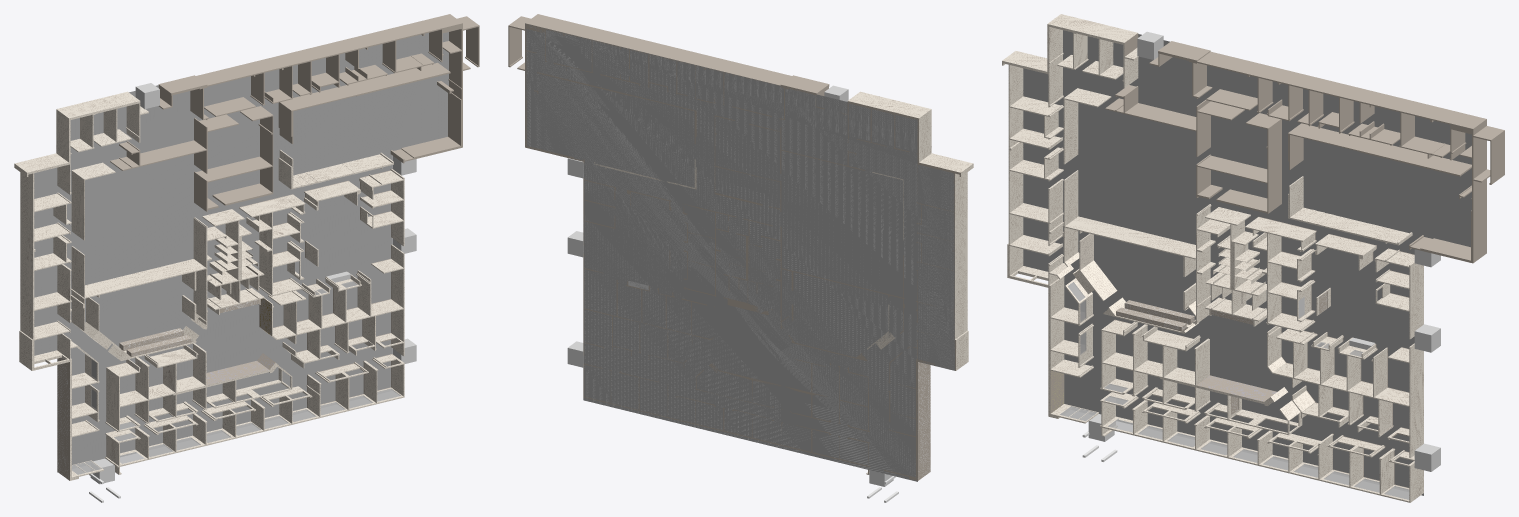
The model's file is willowgarage_hd_closed.glb.
3 views of the same model, side by side, from view 1: azimuth 30°, elevation 25°; view 2: azimuth 150°, elevation 25°; view 3: azimuth 330°, elevation 25° (orthographic). The views are drawn at different scales.
Visible parts, largest first — view 1: SketchUp, instance_0.021, instance_0.006, instance_0.052, instance_0.041, instance_0.038, instance_0.032, instance_0.023, instance_0.036, instance_0.004, instance_0.005, instance_0.002 (+12 smaller); view 2: SketchUp, instance_0.006, instance_0.021, instance_0.022, instance_0.195, instance_0.001, instance_0, instance_0.013; view 3: SketchUp, instance_0.021, instance_0.006, instance_0.052, instance_0.041, instance_0.038, instance_0.032, instance_0.023, instance_0.036, instance_0.004, instance_0.005, instance_0.002 (+15 smaller).
Part boxes in pixels (x1=…): SketchUp: x1=34, y1=32, x2=448, y2=472; instance_0.021: x1=14, y1=91, x2=148, y2=480; instance_0.006: x1=158, y1=14, x2=479, y2=163; instance_0.052: x1=264, y1=244, x2=404, y2=368; instance_0.041: x1=105, y1=354, x2=404, y2=474; instance_0.038: x1=105, y1=343, x2=292, y2=431; instance_0.032: x1=70, y1=217, x2=207, y2=333; instance_0.023: x1=202, y1=209, x2=264, y2=314; instance_0.036: x1=239, y1=194, x2=305, y2=296; instance_0.004: x1=194, y1=106, x2=273, y2=211; instance_0.005: x1=278, y1=62, x2=450, y2=144; instance_0.002: x1=110, y1=114, x2=238, y2=173; SketchUp: x1=525, y1=23, x2=954, y2=481; instance_0.006: x1=508, y1=14, x2=829, y2=163; instance_0.021: x1=848, y1=91, x2=973, y2=370; instance_0.022: x1=918, y1=362, x2=930, y2=480; instance_0.195: x1=847, y1=101, x2=960, y2=480; instance_0.001: x1=583, y1=363, x2=870, y2=474; instance_0: x1=583, y1=253, x2=714, y2=367; instance_0.013: x1=723, y1=218, x2=772, y2=314; SketchUp: x1=1023, y1=30, x2=1471, y2=495; instance_0.021: x1=1002, y1=14, x2=1138, y2=423; instance_0.006: x1=1149, y1=41, x2=1504, y2=263; instance_0.052: x1=1267, y1=326, x2=1423, y2=458; instance_0.041: x1=1100, y1=392, x2=1423, y2=502; instance_0.038: x1=1100, y1=320, x2=1302, y2=434; instance_0.032: x1=1062, y1=170, x2=1211, y2=324; instance_0.023: x1=1205, y1=207, x2=1266, y2=326; instance_0.036: x1=1245, y1=217, x2=1316, y2=332; instance_0.004: x1=1196, y1=113, x2=1281, y2=213; instance_0.005: x1=1288, y1=123, x2=1471, y2=176; instance_0.002: x1=1105, y1=85, x2=1244, y2=156.
Size of the model in its own units: 58.63 by 49.01 by 2.84.
